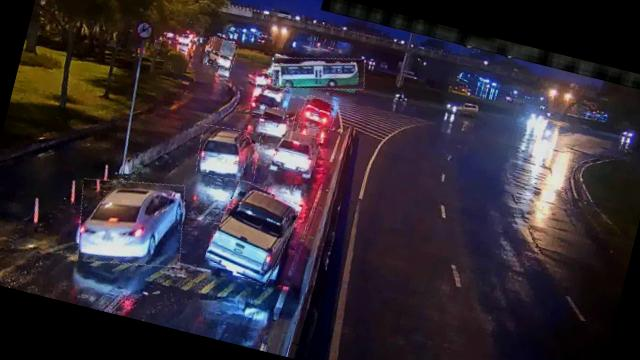Bus: (268, 44, 368, 105), (204, 37, 239, 72)
Car: (68, 166, 194, 278), (206, 180, 300, 287), (192, 122, 263, 186), (268, 128, 320, 180), (248, 80, 291, 122), (254, 103, 297, 144), (298, 94, 338, 132)
